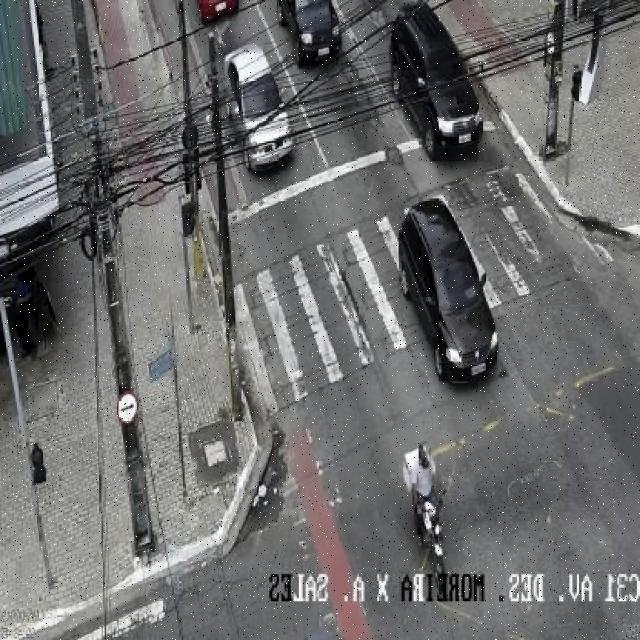Car: (399, 199, 506, 396), (392, 4, 488, 155), (224, 46, 301, 180), (282, 0, 350, 64), (197, 0, 245, 24)
Cycle: (403, 438, 455, 570)
